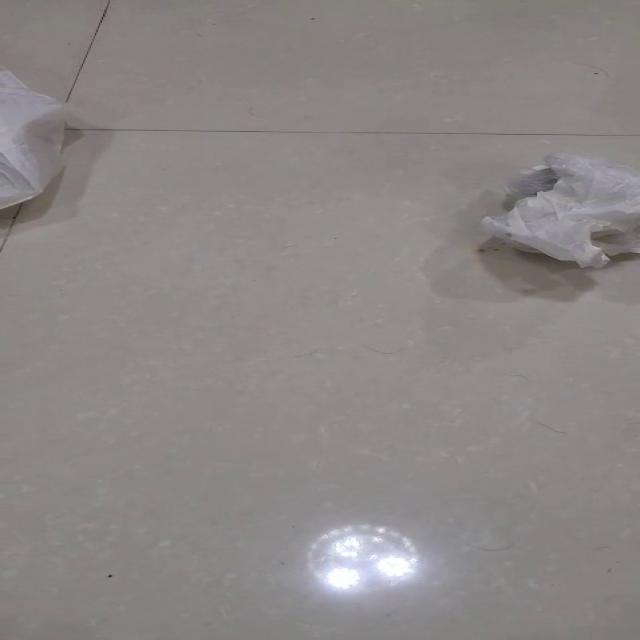plastic: (479, 151, 639, 269), (0, 66, 67, 210)
